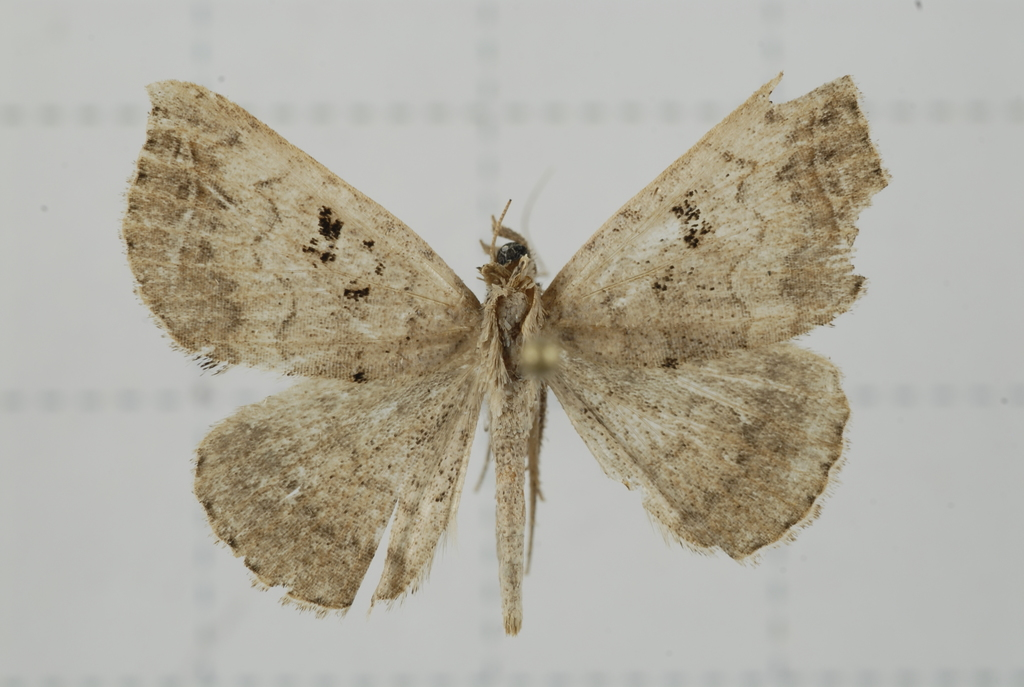Butterfly: (126, 54, 927, 657)
